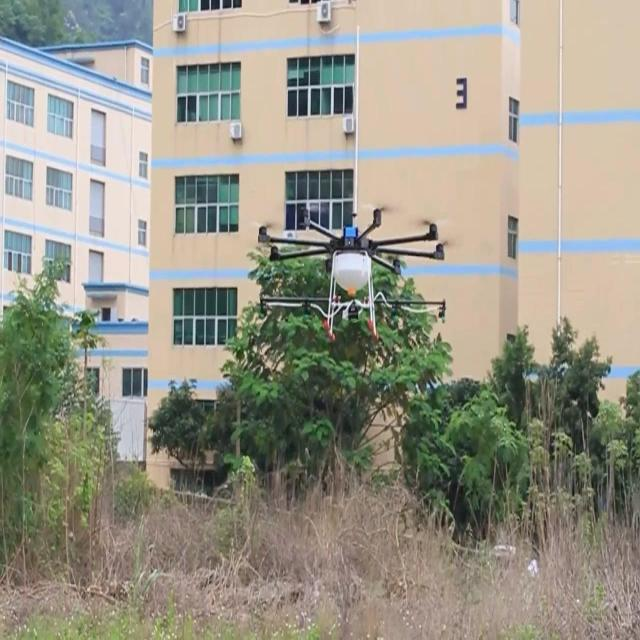drone: (258, 200, 452, 342)
